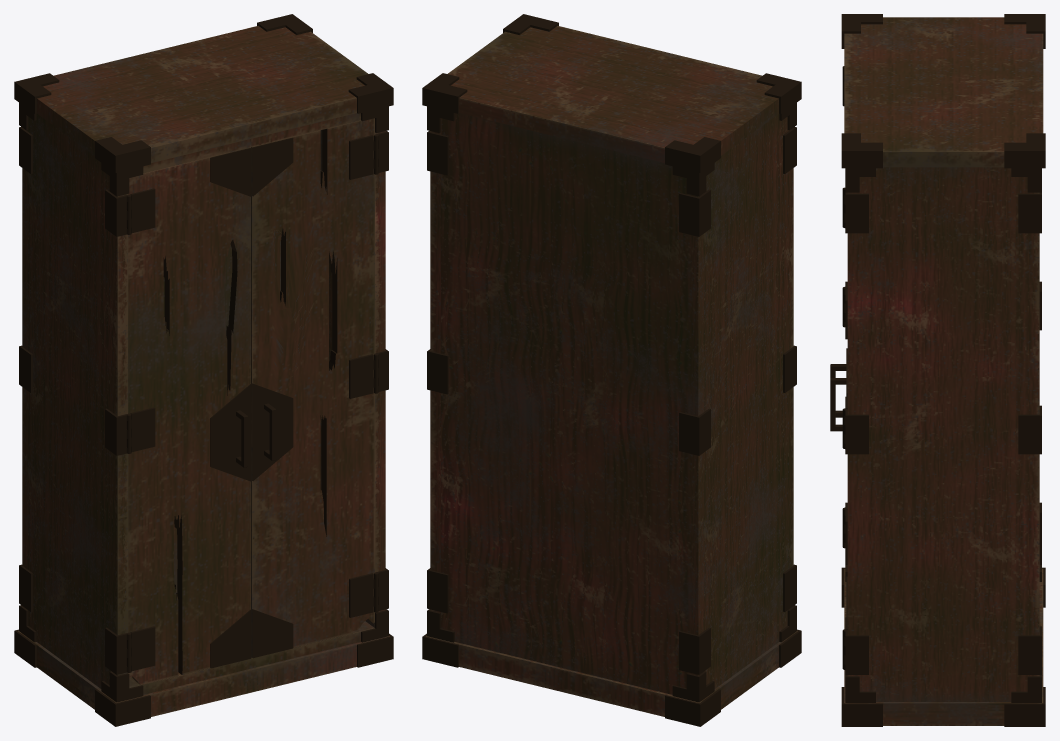
The model's file is locker_tattered.fbx.
The picture shows the model from 3 angles, left to right: view 1: azimuth 30°, elevation 25°; view 2: azimuth 150°, elevation 25°; view 3: azimuth 270°, elevation 25°; orthographic projection.
Parts seen in each view (by area): view 1: locker_box, polySurface10, locker_door_01; view 2: locker_box; view 3: locker_box, polySurface10, locker_door_01.
Part boxes in pixels (box(x1,y1,x2,y2)): locker_box: box(14, 14, 393, 726); polySurface10: box(251, 118, 378, 658); locker_door_01: box(126, 147, 251, 684); locker_box: box(422, 14, 801, 726); locker_box: box(841, 14, 1045, 726); polySurface10: box(830, 194, 847, 664); locker_door_01: box(830, 73, 847, 576).
Size of the model in its own units: 114 by 224 by 75.81.
Materials: 1 (1 with a texture image).
